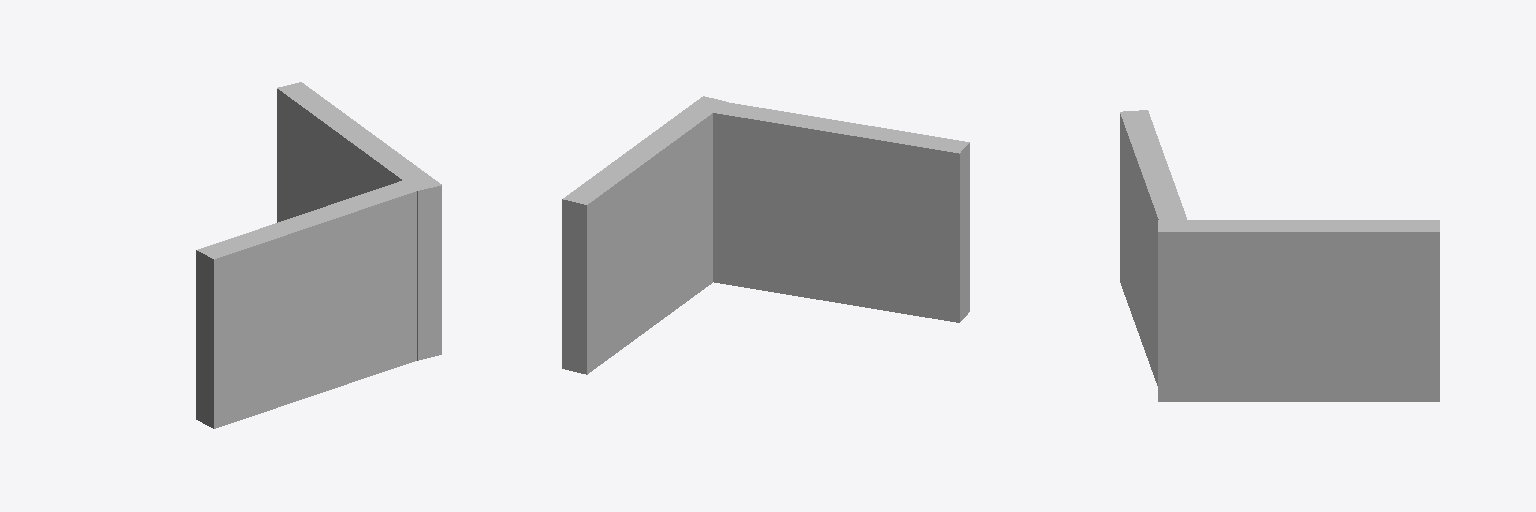
File: Wallet.obj
The picture shows the model from 3 angles: view 1: azimuth 30°, elevation 25°; view 2: azimuth 150°, elevation 25°; view 3: azimuth 270°, elevation 25°; orthographic projection.
Parts seen in each view (by area): view 1: pCube1, pCube2; view 2: pCube1, pCube2; view 3: pCube2, pCube1.
Part boxes in pixels (left/top/right/bottom): pCube1: left=196, top=180, right=416, bottom=428; pCube2: left=277, top=82, right=441, bottom=360; pCube1: left=713, top=102, right=969, bottom=322; pCube2: left=562, top=96, right=725, bottom=374; pCube2: left=1158, top=220, right=1439, bottom=401; pCube1: left=1120, top=110, right=1186, bottom=385.
Bounding box in the file's own units: 1.73 × 1.11 × 1.91.